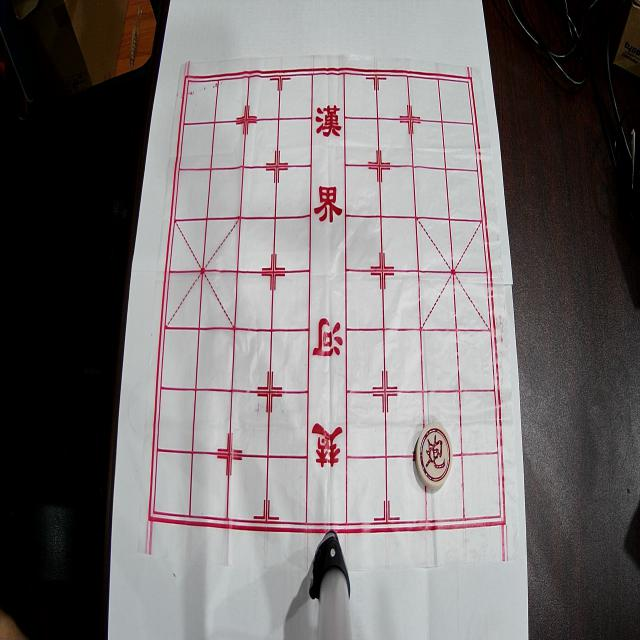red-cannon: (416, 422, 452, 490)
